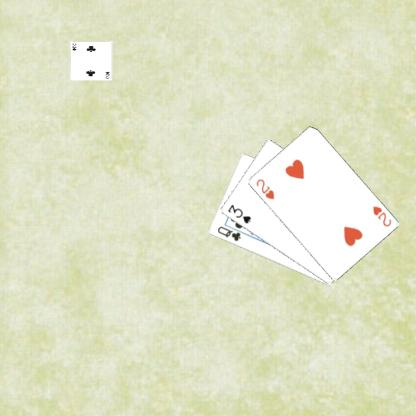2H: (370, 203, 392, 228), (253, 176, 275, 200)
3S: (225, 202, 252, 225)
QC: (214, 224, 242, 242)
